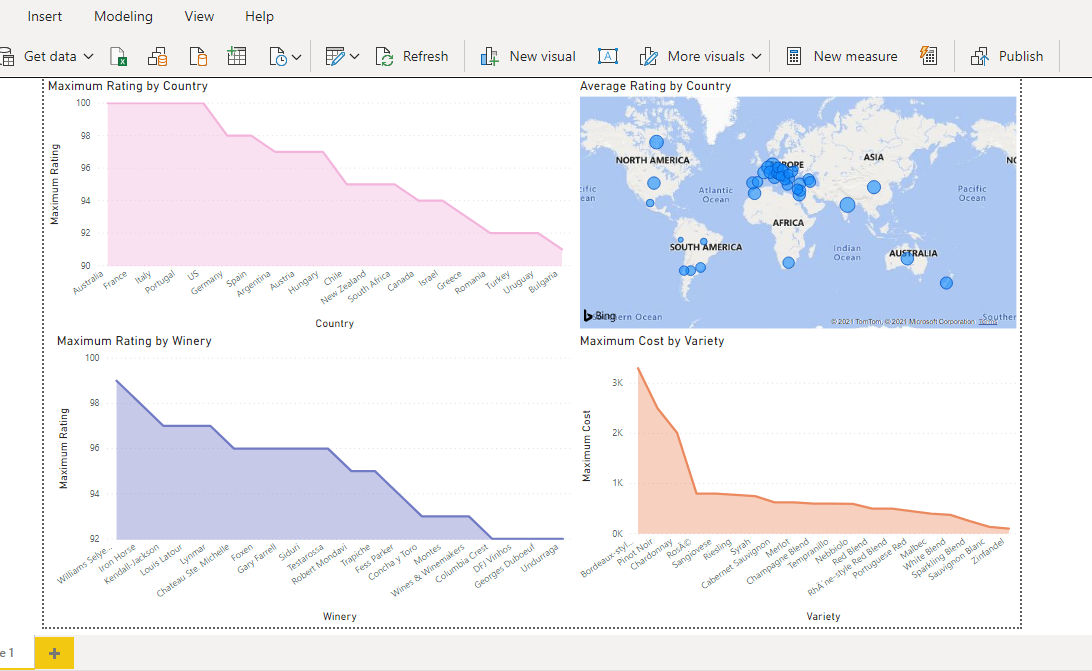

This screenshot's page, from the dashboard's own definition file:
{"tool":"powerbi","page":{"name":"Page 1","canvas":[1280,720],"ordinal":0},"visuals":[{"type":"stackedAreaChart","fields":{"Category":["winemag-data-130k-v2.Country"],"Y":["winemag-data-130k-v2.Maximum Rating"]},"box":[0,0,697.4,334],"z":0},{"type":"areaChart","fields":{"Category":["winemag-data-130k-v2.Winery"],"Y":["winemag-data-130k-v2.Maximum Rating"]},"box":[11.8,334,685.6,385.5],"z":1},{"type":"stackedAreaChart","fields":{"Category":["winemag-data-130k-v2.Variety"],"Y":["winemag-data-130k-v2.Maximum Cost"]},"box":[697.4,334,582.6,385.5],"z":2},{"type":"map","fields":{"Category":["winemag-data-130k-v2.Country"],"Size":["winemag-data-130k-v2.Average Rating"]},"box":[697.4,0,582.6,334],"z":3}]}

Visuals, with their boxes on the page's 1280x720 design canvas (x1, y1, x2, y2). These are canvas units, not pixel positions in the 1092x671 screenshot, which may show the page scaled, cropped or inside an application window:
stackedAreaChart - winemag-data-130k-v2.Country x winemag-data-130k-v2.Maximum Rating: pyautogui.locateOnScreen(0, 0, 697, 334)
areaChart - winemag-data-130k-v2.Winery x winemag-data-130k-v2.Maximum Rating: pyautogui.locateOnScreen(12, 334, 697, 720)
stackedAreaChart - winemag-data-130k-v2.Variety x winemag-data-130k-v2.Maximum Cost: pyautogui.locateOnScreen(697, 334, 1280, 720)
map - winemag-data-130k-v2.Country x winemag-data-130k-v2.Average Rating: pyautogui.locateOnScreen(697, 0, 1280, 334)
